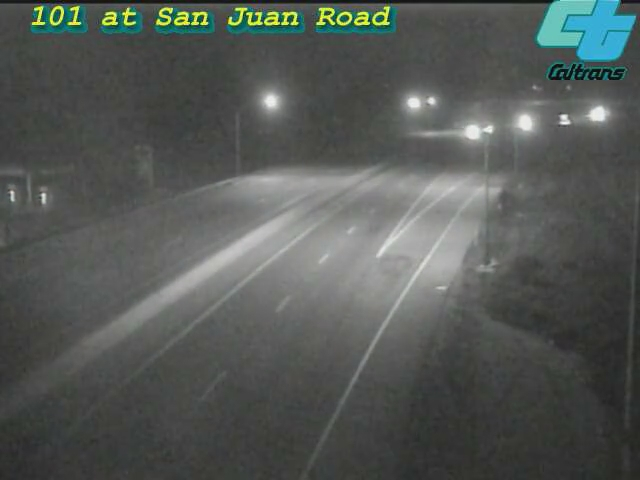vehicle: (537, 96, 587, 146), (445, 106, 495, 156), (500, 97, 550, 147), (462, 104, 512, 154), (572, 89, 622, 139)
